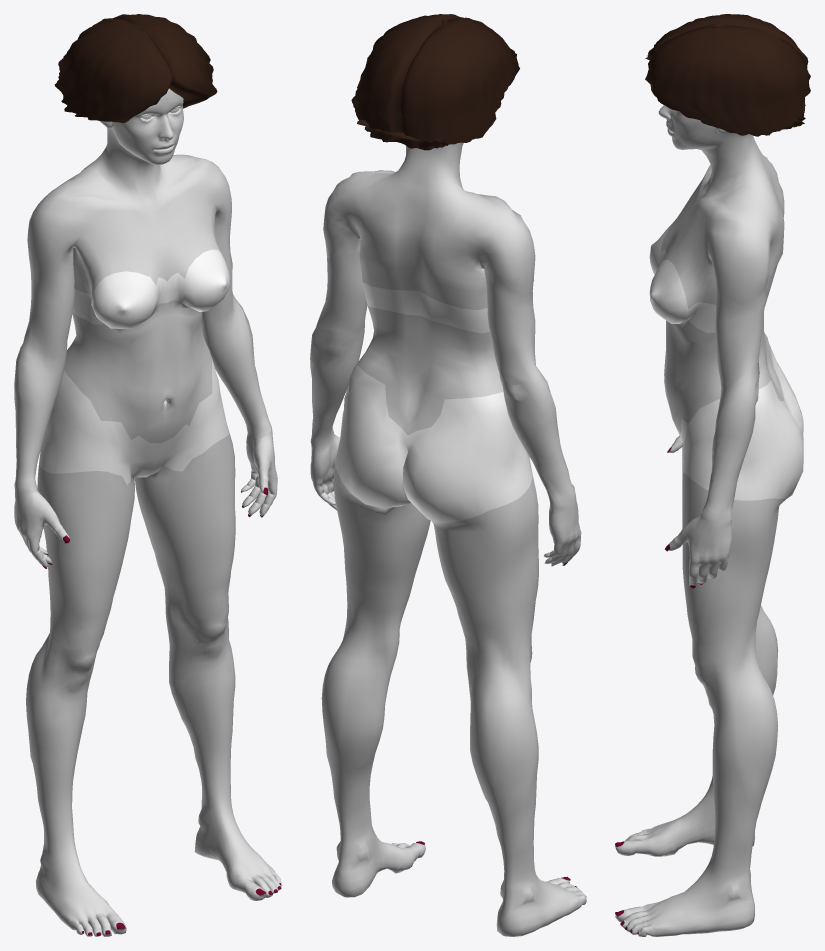
File: avatar_female_1.glb
3 views of the same model, side by side, from view 1: azimuth 30°, elevation 25°; view 2: azimuth 150°, elevation 25°; view 3: azimuth 270°, elevation 25° (orthographic). The views are drawn at different scales.
Visible parts, largest first — view 1: f_ca01; view 2: f_ca01; view 3: f_ca01.
Boxes of the visible parts, x1=… form: f_ca01: x1=14, y1=14, x2=281, y2=936; f_ca01: x1=310, y1=14, x2=586, y2=936; f_ca01: x1=615, y1=14, x2=810, y2=936.
Bounding box in the file's own units: 0.531 × 1.72 × 0.3524.
11 materials, 1 textured.
